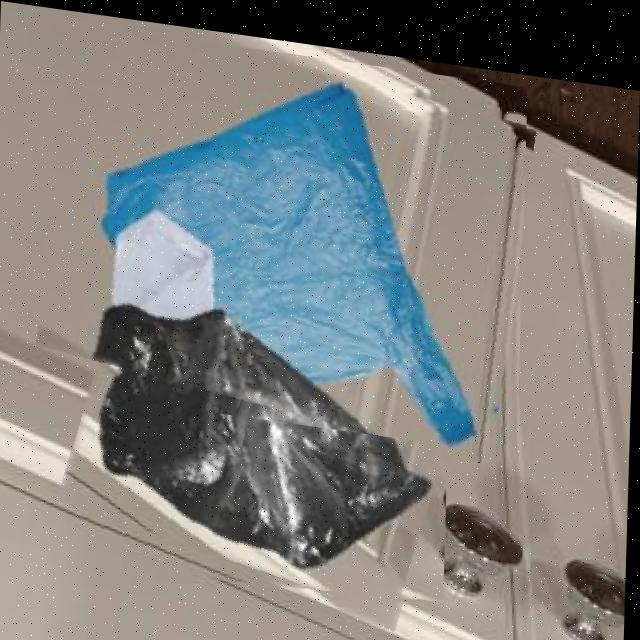litter: (46, 18, 527, 438), (70, 274, 452, 604)
